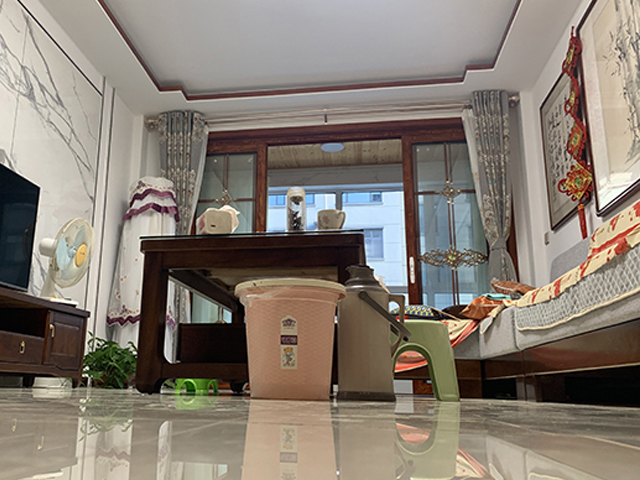cabinet: (1, 287, 91, 388)
curtain: (465, 86, 519, 285), (158, 111, 205, 322)
sofa: (446, 199, 640, 405)
stool: (389, 318, 461, 403), (174, 378, 219, 397)
table: (135, 227, 364, 395)
trashcan: (235, 277, 347, 401)
